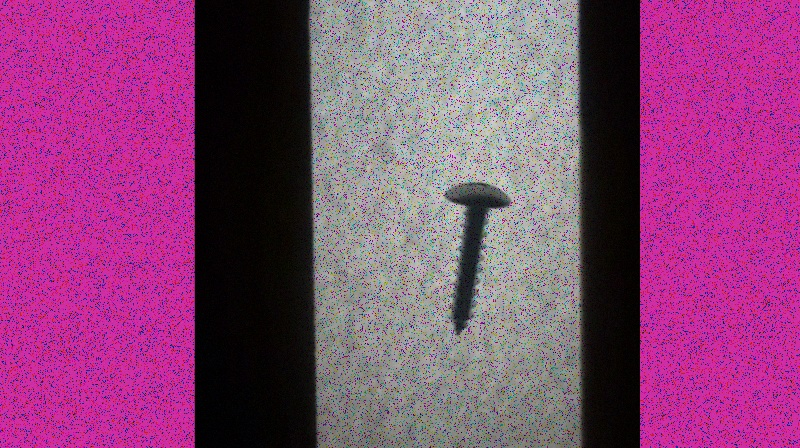S003: (444, 178, 513, 338)
